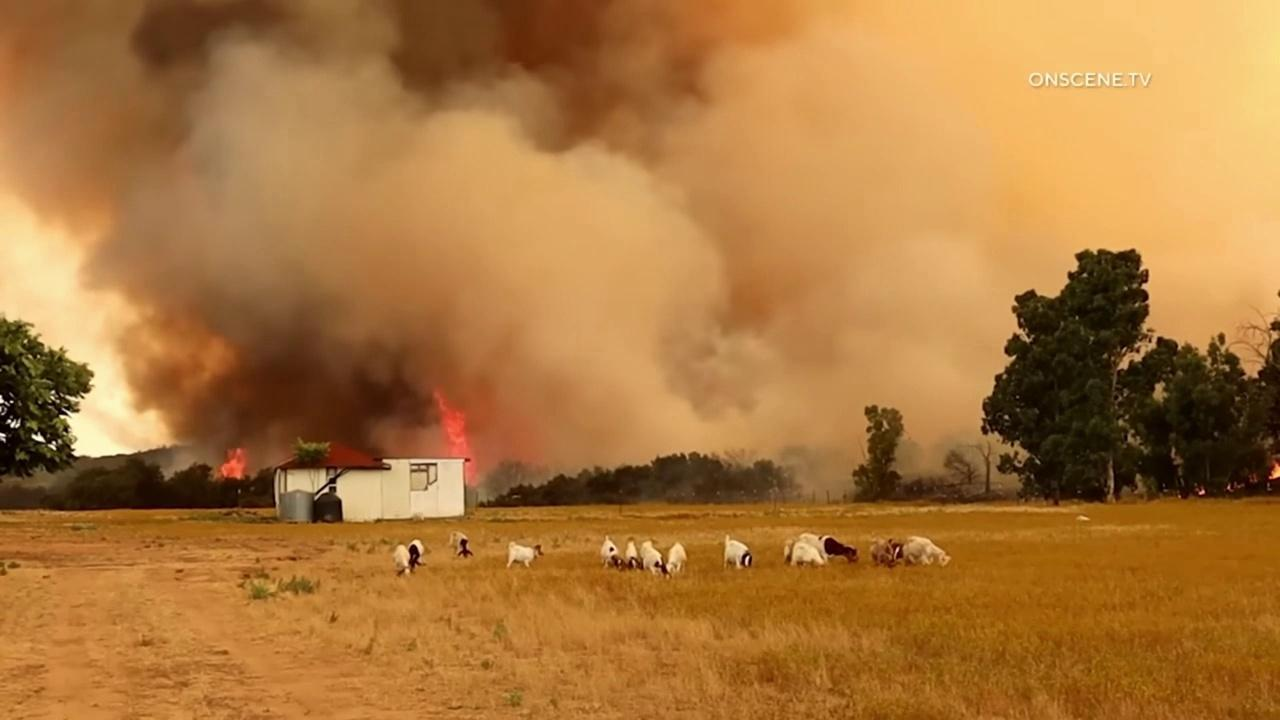fire: (431, 390, 479, 489), (219, 446, 248, 481), (1266, 462, 1280, 479), (1193, 486, 1207, 496), (1226, 481, 1234, 493)
smoke: (0, 5, 1280, 505)
